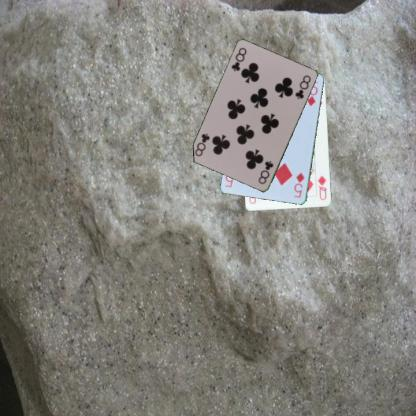5d: (291, 170, 306, 199)
8c: (256, 158, 275, 186), (229, 45, 248, 73)
Qd: (316, 173, 328, 201)
